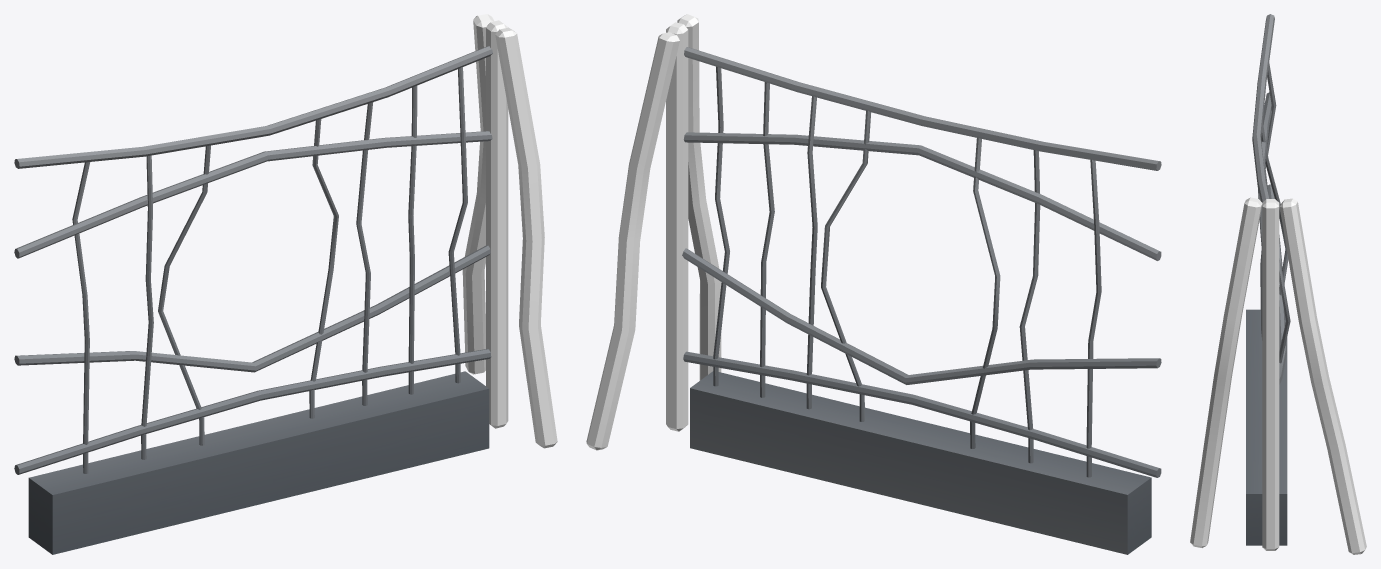
File: valla3.fbx
The picture shows the model from 3 angles, left to right: view 1: azimuth 30°, elevation 25°; view 2: azimuth 150°, elevation 25°; view 3: azimuth 270°, elevation 25°; orthographic projection. The views are drawn at different scales.
Visible parts, largest first — view 1: valla3; view 2: valla3; view 3: valla3.
Boxes of the visible parts, box(x1,y1,x2,y2) form: valla3: box(14, 14, 557, 554); valla3: box(586, 14, 1161, 554); valla3: box(1190, 14, 1366, 554).
Size of the model in its own units: 435 by 329 by 148.
